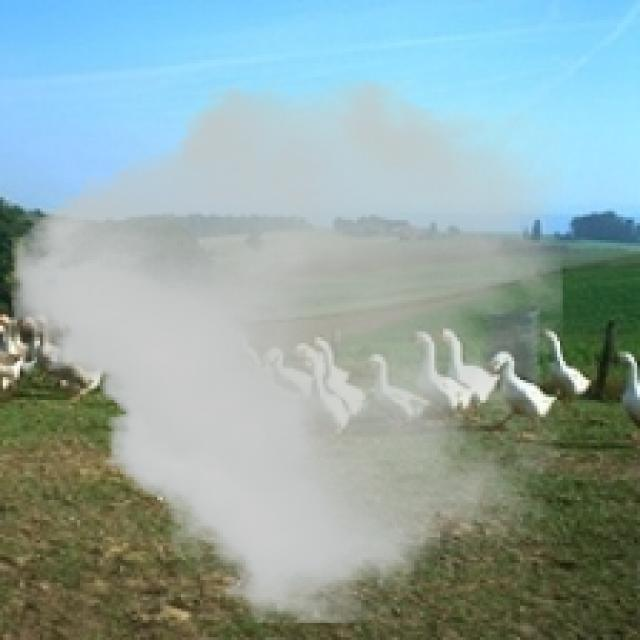smoke: (11, 77, 563, 623)
